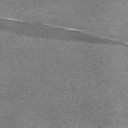finishing roll printing: (0, 16, 126, 45)
